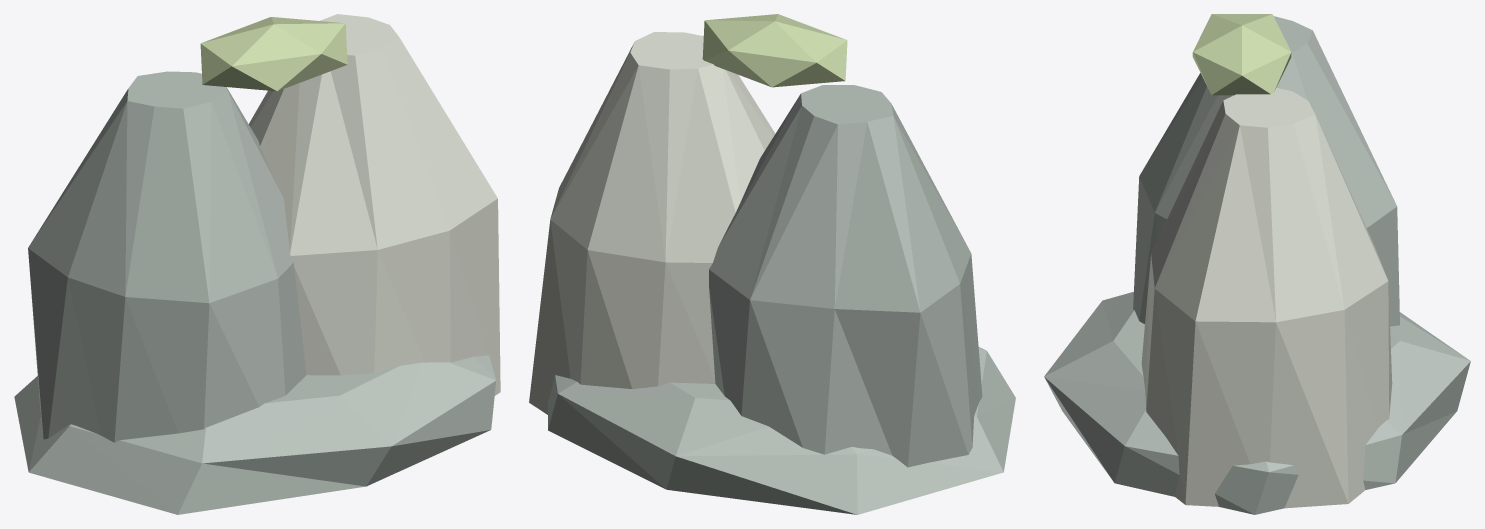
Rendered from world_rock_b.fbx.
3 renders of one model, left to right at view 1: azimuth 30°, elevation 25°; view 2: azimuth 150°, elevation 25°; view 3: azimuth 270°, elevation 25°, orthographic. The views are drawn at different scales.
Parts seen in each view (by area): view 1: world_rock_b_mesh; view 2: world_rock_b_mesh; view 3: world_rock_b_mesh.
Boxes of the visible parts, box(x1,y1,x2,y2) form: world_rock_b_mesh: box(14, 14, 500, 514); world_rock_b_mesh: box(529, 14, 1015, 514); world_rock_b_mesh: box(1044, 14, 1470, 514).
Size of the model in its own units: 0.7994 by 0.66 by 0.6623.
